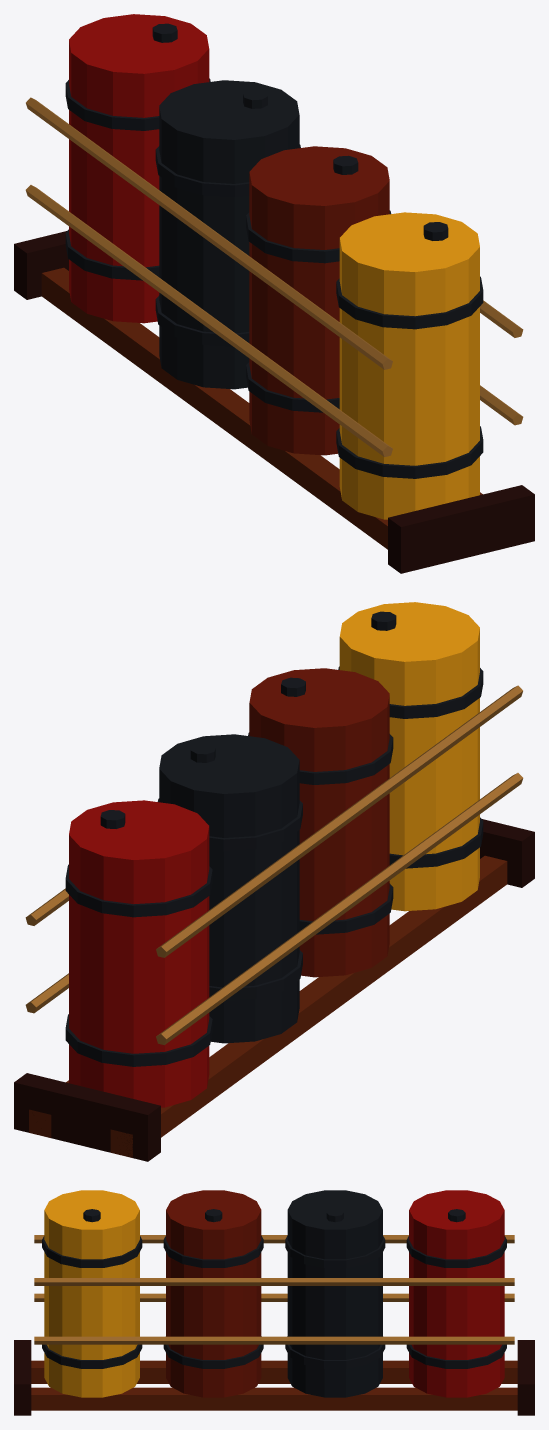
Rendered from tb_upg_fuel_drums.three-web-toon.glb.
3 renders of one model, top to bottom at view 1: azimuth 30°, elevation 25°; view 2: azimuth 150°, elevation 25°; view 3: azimuth 270°, elevation 25°, orthographic. The views are drawn at different scales.
Parts seen in each view (by area): view 1: tb_upg_fuel_drums_mesh; view 2: tb_upg_fuel_drums_mesh; view 3: tb_upg_fuel_drums_mesh.
Boxes of the visible parts, x1,y1,x2,y2 form: tb_upg_fuel_drums_mesh: (14, 14, 534, 573); tb_upg_fuel_drums_mesh: (14, 602, 534, 1161); tb_upg_fuel_drums_mesh: (14, 1190, 534, 1415).
Bounding box in the file's own units: 0.3785 × 0.7225 × 1.8.
